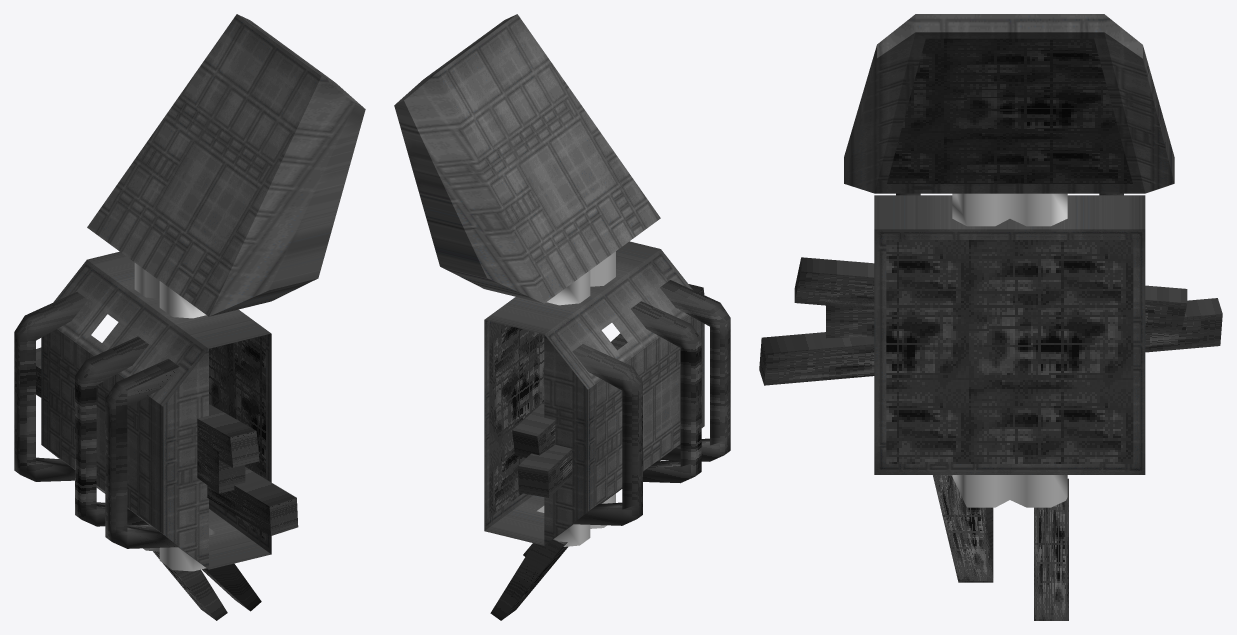
The model's file is Debris3.fbx.
3 views of the same model, side by side, from view 1: azimuth 30°, elevation 25°; view 2: azimuth 150°, elevation 25°; view 3: azimuth 270°, elevation 25° (orthographic). The views are drawn at different scales.
Parts seen in each view (by area): view 1: Debris3; view 2: Debris3; view 3: Debris3.
Part boxes in pixels (x1,y1,x2,y2): Debris3: (14, 14, 365, 620); Debris3: (394, 14, 730, 620); Debris3: (759, 14, 1222, 620).
Size of the model in its own units: 147 by 331 by 219.
